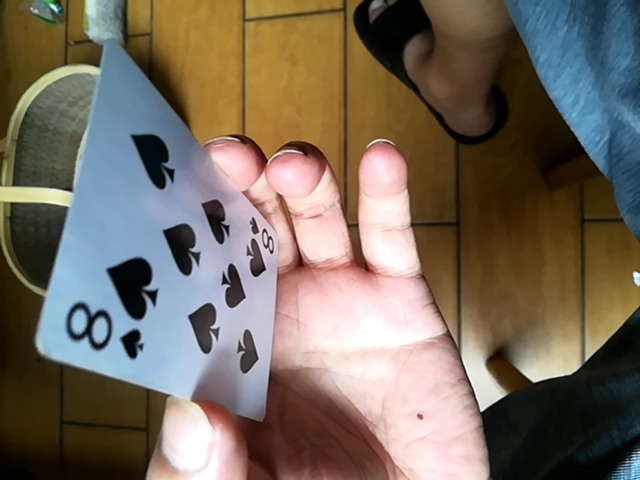ht 8: (42, 67, 286, 424)
